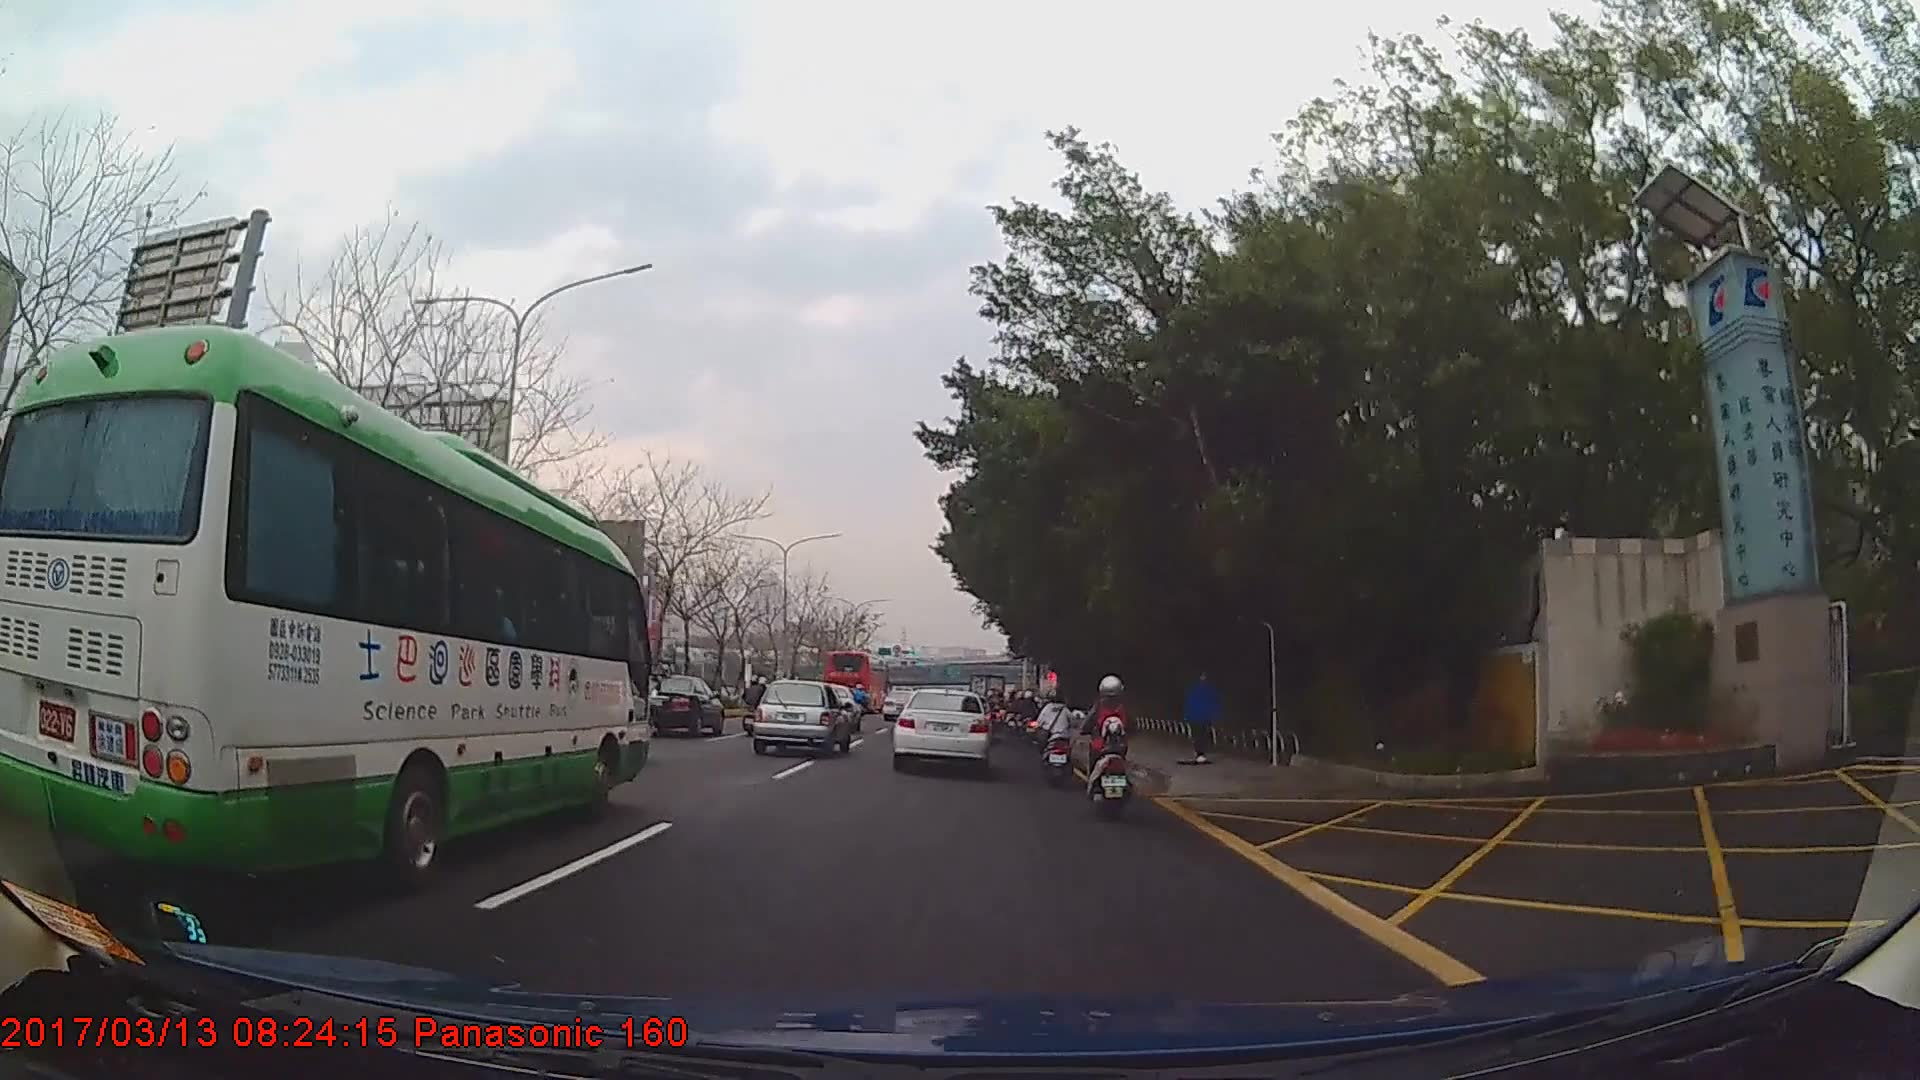pedestrian: (1188, 668, 1224, 763)
rider: (1080, 678, 1136, 823), (1038, 691, 1078, 788), (745, 676, 769, 725)
vehicle: (0, 319, 653, 894), (890, 687, 991, 774), (752, 681, 850, 759), (632, 672, 725, 739), (824, 653, 891, 717)
